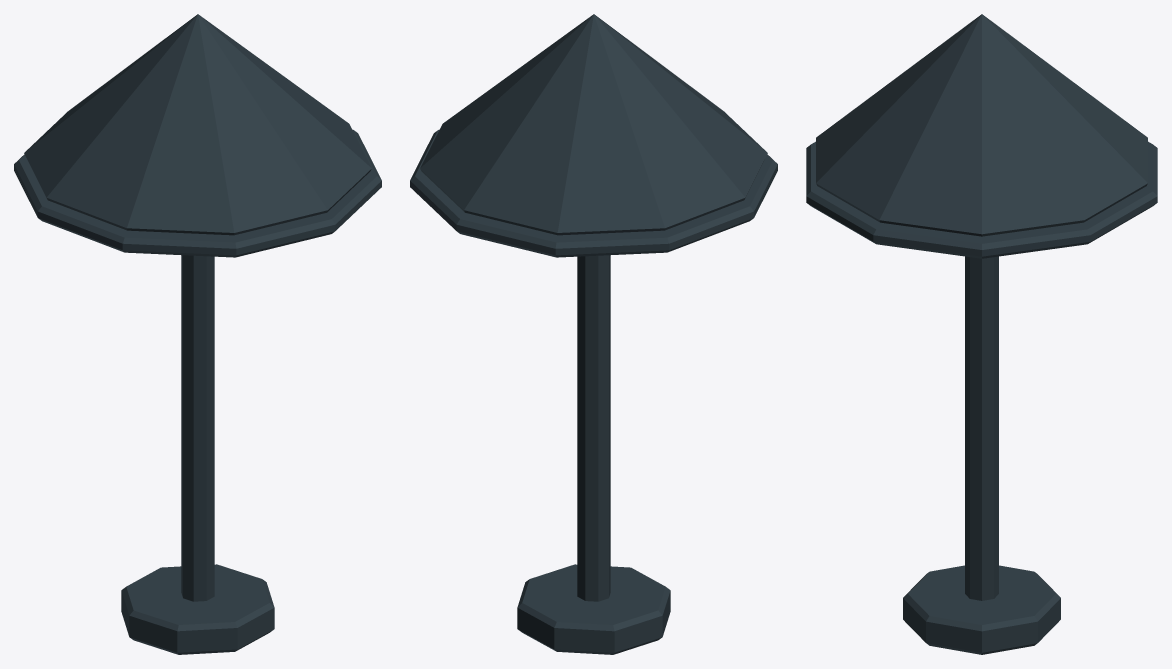
The model's file is b18_conical_path_lamp.glb.
3 renders of one model, left to right at view 1: azimuth 30°, elevation 25°; view 2: azimuth 150°, elevation 25°; view 3: azimuth 270°, elevation 25°, orthographic.
Visible parts, largest first — view 1: b18_conical_path_lamp; view 2: b18_conical_path_lamp; view 3: b18_conical_path_lamp.
Part boxes in pixels (x1,y1,x2,y2): b18_conical_path_lamp: (14,14,381,654); b18_conical_path_lamp: (410,14,777,654); b18_conical_path_lamp: (806,14,1157,654).
Size of the model in its own units: 0.56 by 1.02 by 0.5326.
